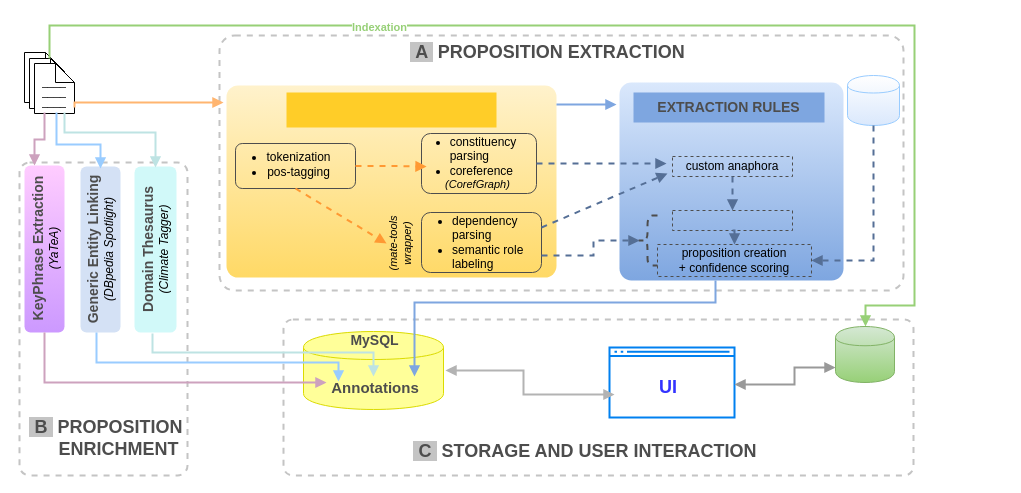
Image size: 1021x493. Some labels were removed from this diagram. Here are the shapes that lost their labels. From the top down, the centre of each, then its label:
At point (391, 109): "NLP PIPELINE (IXA Pipes + compatible tools)".
At point (873, 100): "domain model".
At point (732, 220): "negation".
At point (864, 354): "Solr".
